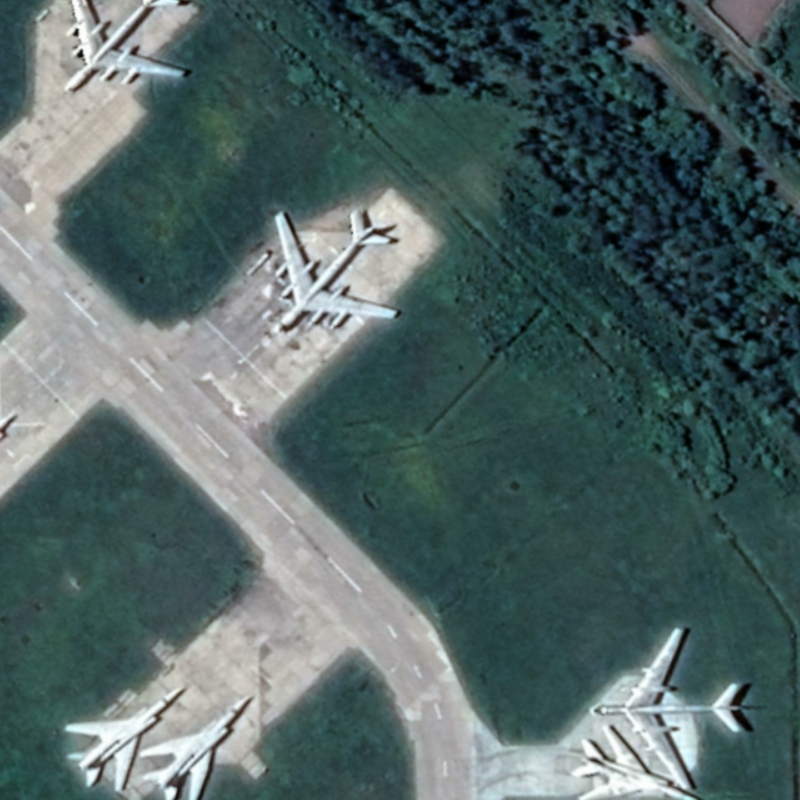A12: (62, 684, 187, 793), (137, 693, 253, 800), (569, 723, 703, 800)
A17: (592, 624, 745, 793), (272, 207, 400, 334), (61, 1, 187, 93)
